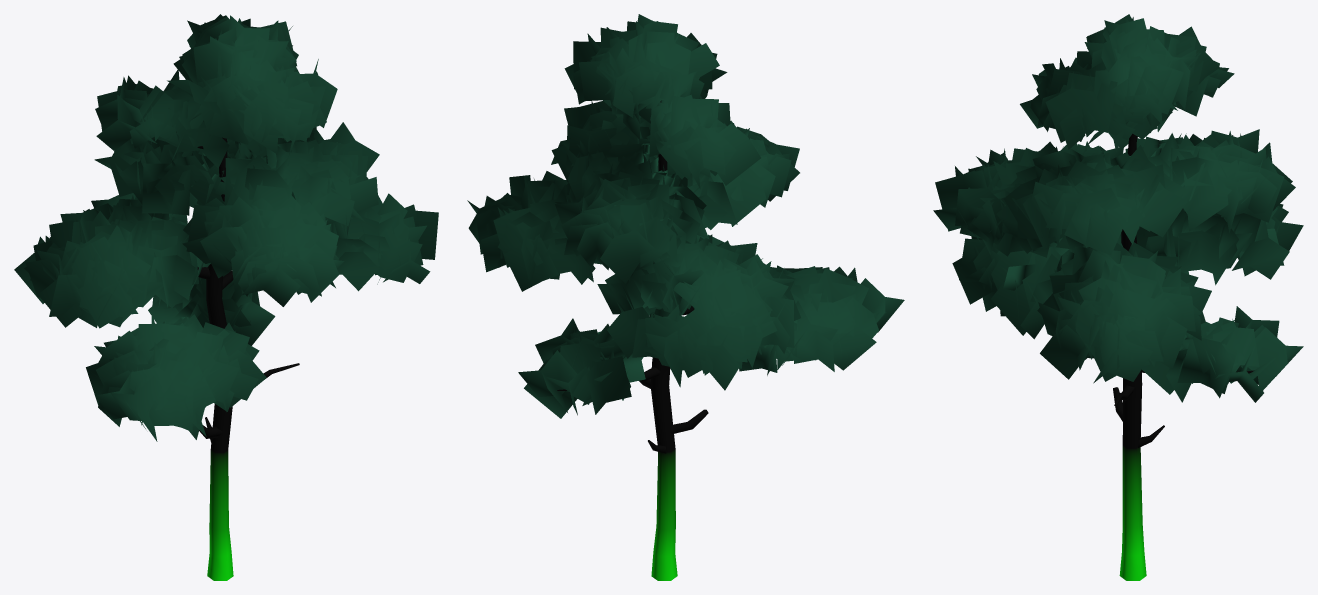
Rendered from SM_ChinaPine03.fbx.
3 renders of one model, left to right at view 1: azimuth 30°, elevation 25°; view 2: azimuth 150°, elevation 25°; view 3: azimuth 270°, elevation 25°, orthographic. The views are drawn at different scales.
Parts seen in each view (by area): view 1: SM_ChinaPina03_LOD0; view 2: SM_ChinaPina03_LOD0; view 3: SM_ChinaPina03_LOD0.
Part boxes in pixels (<box>): SM_ChinaPina03_LOD0: <box>14,14,438,580</box>; SM_ChinaPina03_LOD0: <box>467,14,904,580</box>; SM_ChinaPina03_LOD0: <box>933,14,1303,580</box>.
Size of what is drawn, in the model's own units: 1545 by 2156 by 1281.
